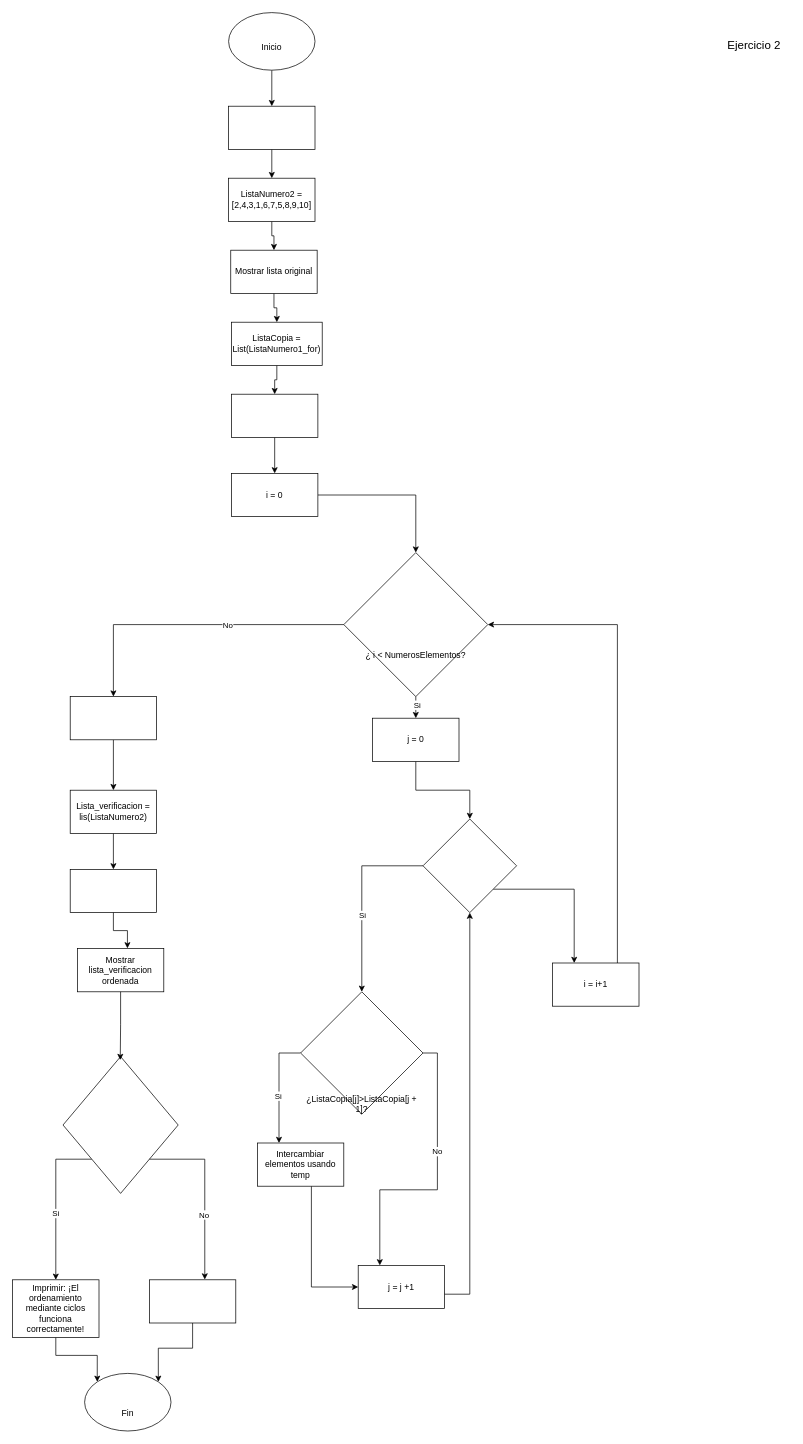
The diagram is 803 pixels wide and 1444 high, and some of its shapes have lost their labels. Each missing label, with the box of its shape:
Imprimir: Hay un error en la lógica del ordenamiento: (149, 1279, 236, 1323)
lista_verificacion.sort(): (69, 869, 157, 913)
ListaNumero1_for = [2,4,3,1,6,7,5,8,9,10]: (228, 105, 315, 149)
Mostrar ListaCopia ordenada: (69, 696, 157, 740)
NumeroElementos = len(ListaCopia): (231, 393, 318, 437)
¿ j< NumeroElementos = i - 1 ?: (422, 818, 517, 913)
¿ListaCopia == lista_verificacion?: (62, 1056, 178, 1193)
